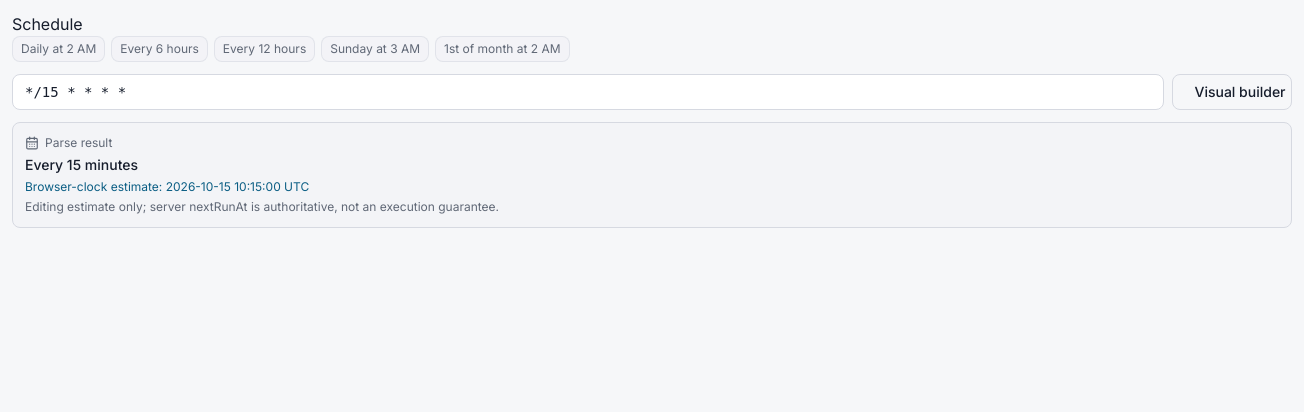
Test: CronGenerator preview › opening builder for */15 * * * * does not rewrite the schedule
Click the button "Visual builder" at (1232, 92), box [1172,74,1292,110]
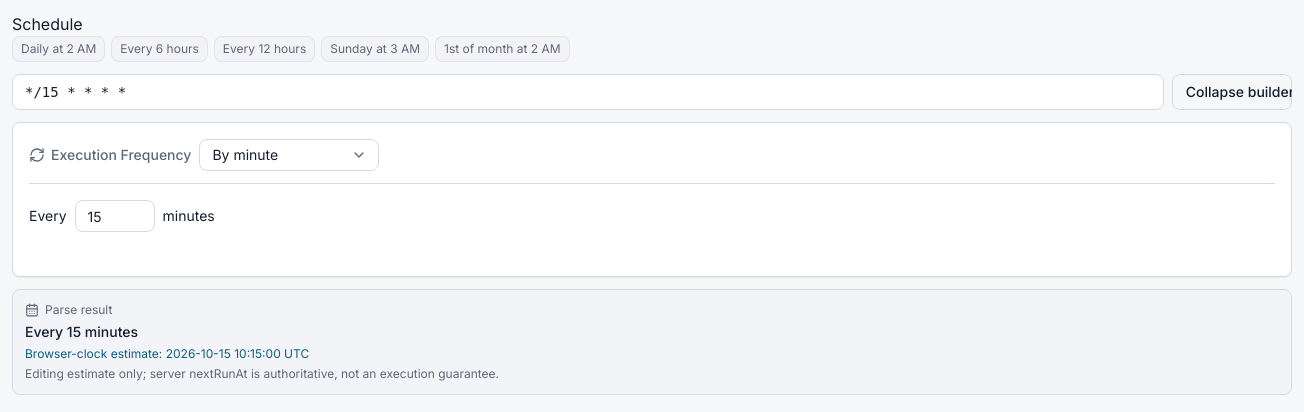
Expected: the field labelled "Schedule" holds "*/15 * * * *", [12,74,1164,110]
Now the dropdown named "Execution Frequency" shows "By minute", box [199,139,379,171]
